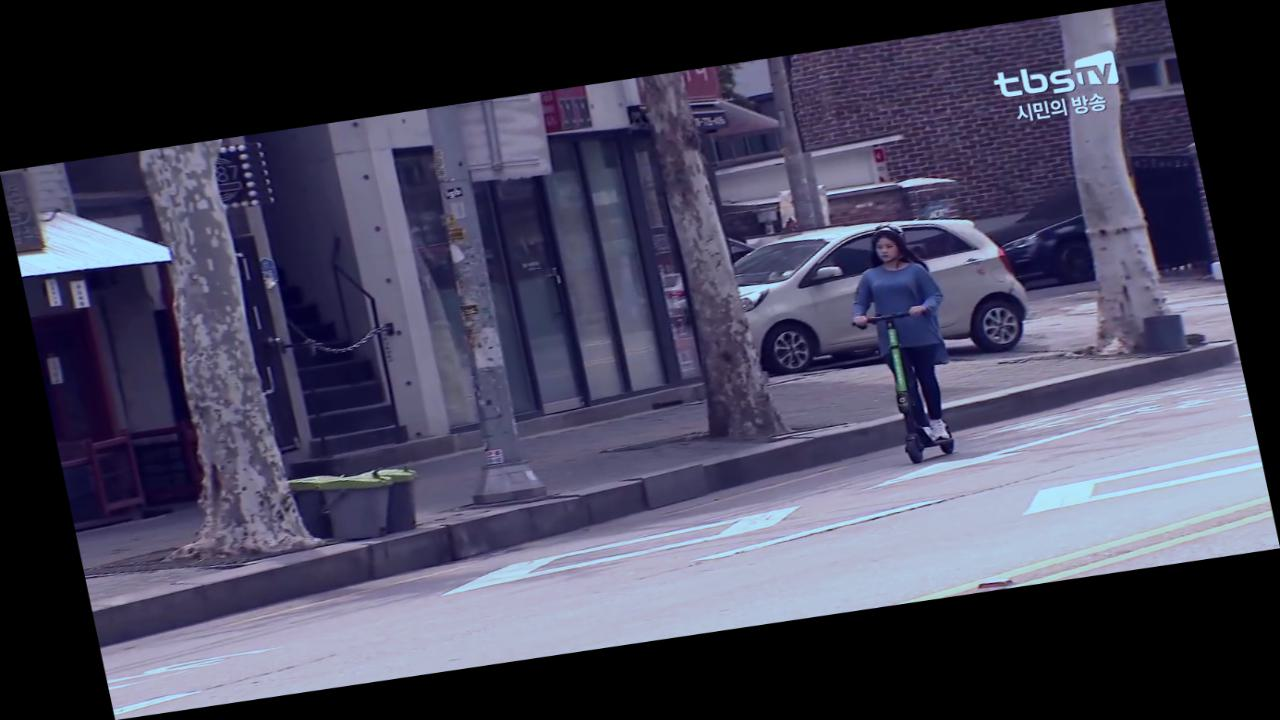helmet: (832, 215, 981, 470)
